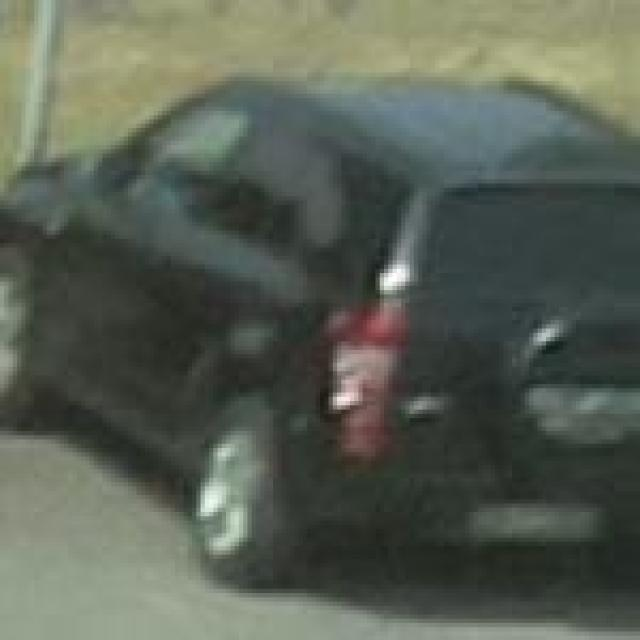cars-sUYr: (3, 27, 640, 611)
